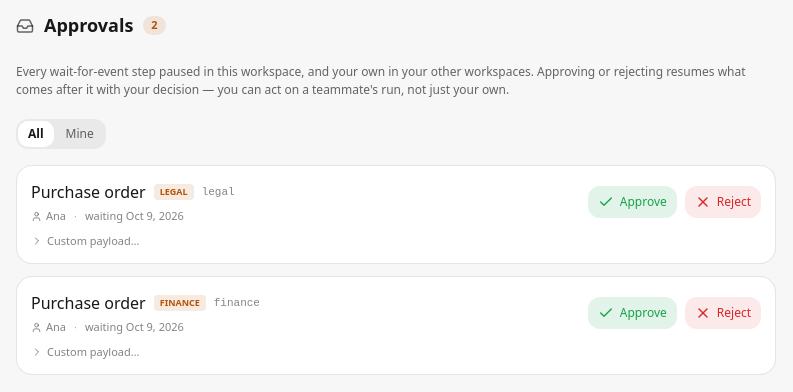
it: ApprovalsInboxPage › lists each wait of a run parked on two at once, and a decision names the one step it answers
Click the 2nd button "Approve".
click(632, 313)  # box [588,297,677,329]
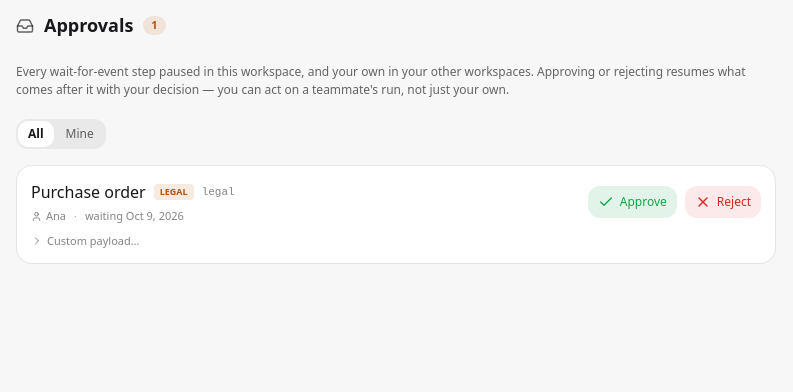
Expected: the number of list items is 1, [16,165,776,264]
